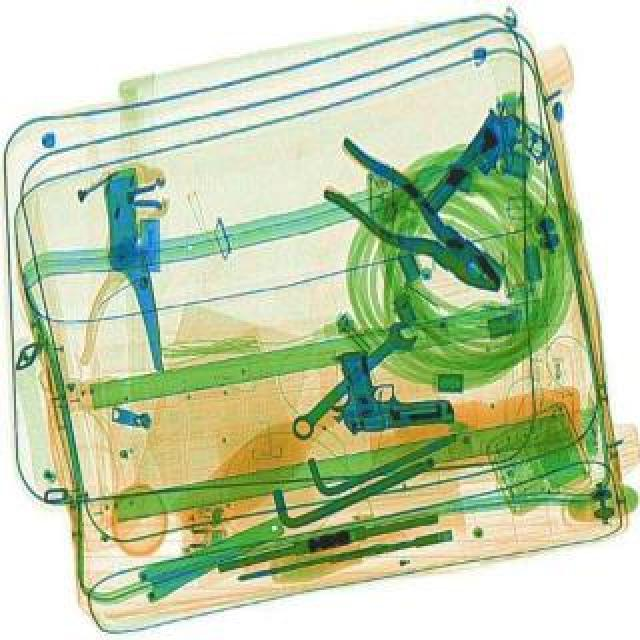gun: (418, 100, 558, 242), (324, 338, 456, 434)
scissors: (284, 314, 424, 442)
wrench: (306, 134, 528, 308)
